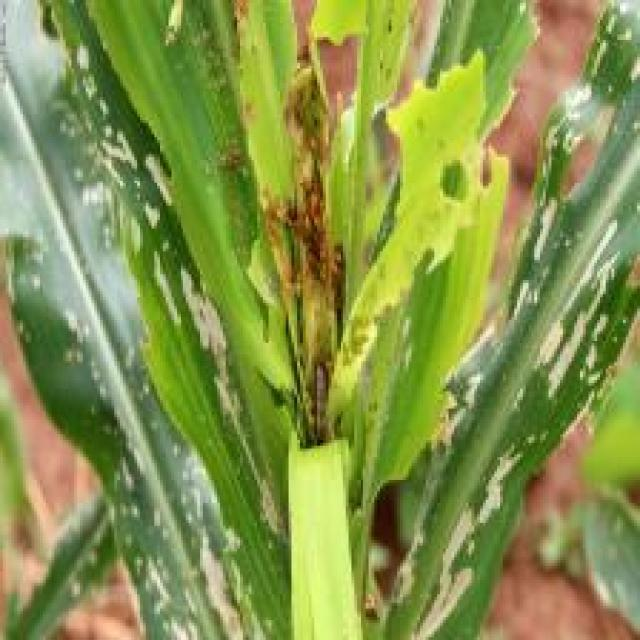Plaga: (305, 338, 340, 450)
